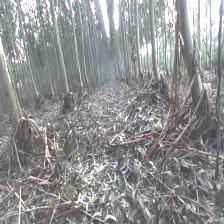trunk: (175, 4, 208, 116), (0, 36, 24, 132), (50, 5, 70, 97), (148, 3, 161, 80), (134, 1, 144, 81), (72, 26, 83, 93)
